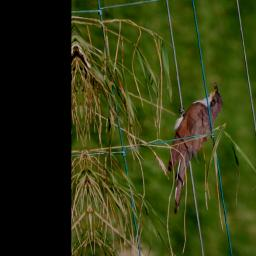Cuckoo: (153, 80, 235, 218)
